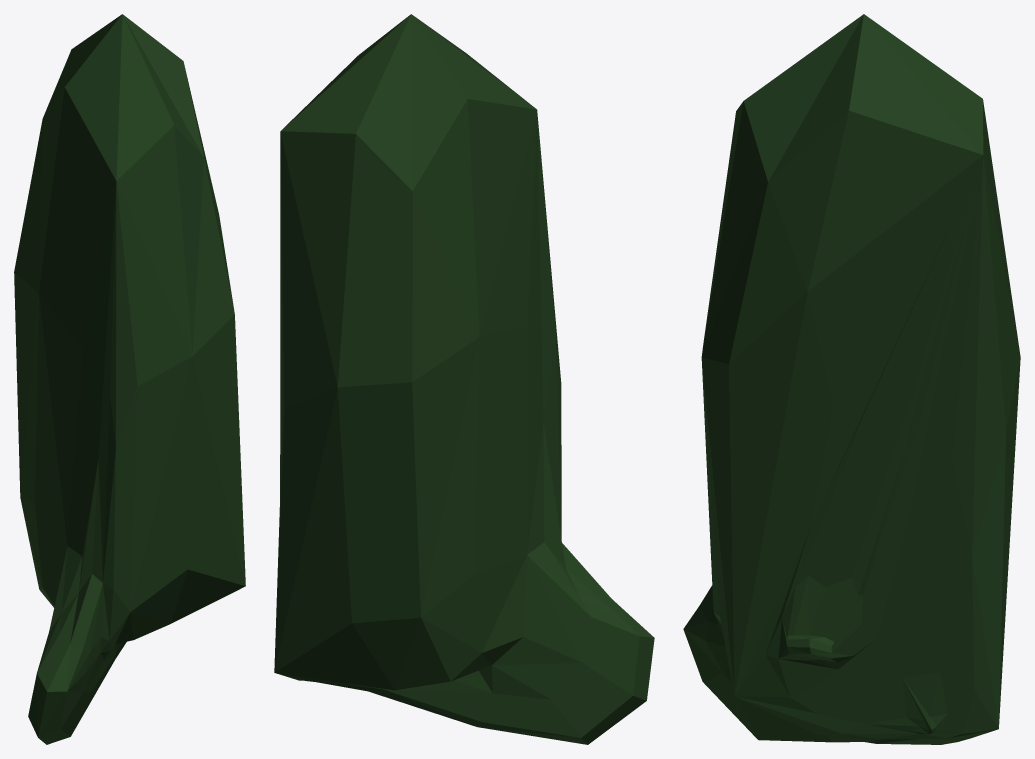
The picture shows the model from 3 angles, left to right: view 1: azimuth 30°, elevation 25°; view 2: azimuth 150°, elevation 25°; view 3: azimuth 270°, elevation 25°; orthographic projection. The views are drawn at different scales.
Visible parts, largest first — view 1: 543_Cube.2192; view 2: 543_Cube.2192; view 3: 543_Cube.2192.
Boxes of the visible parts, x1=… form: 543_Cube.2192: x1=14, y1=14, x2=245, y2=744; 543_Cube.2192: x1=274, y1=14, x2=654, y2=744; 543_Cube.2192: x1=683, y1=14, x2=1020, y2=744.
Size of the model in its own units: 5.09 by 13.45 by 5.23.
